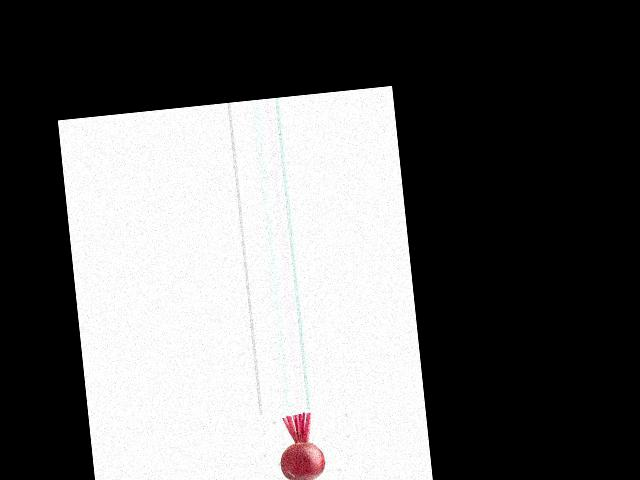beet: (275, 411, 329, 480)
